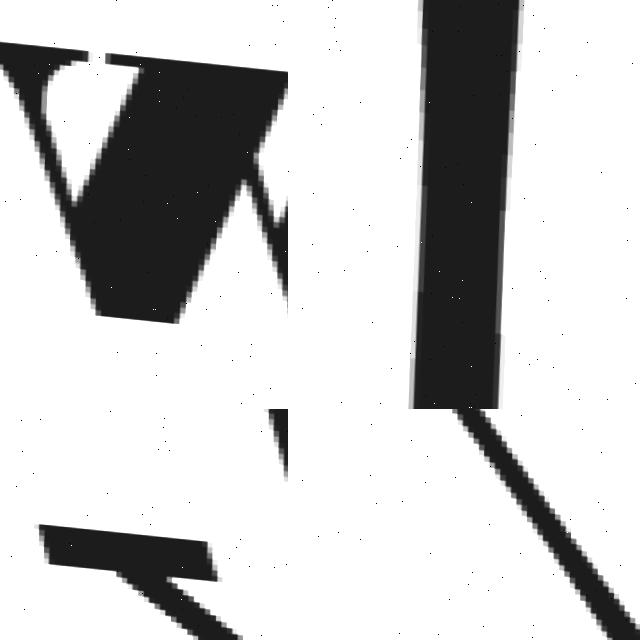7: (288, 409, 640, 640)
K: (10, 409, 288, 640)
L: (372, 0, 548, 409)
W: (0, 20, 288, 363)
